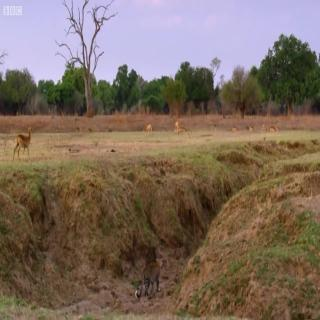Leopard: (134, 257, 164, 299)
